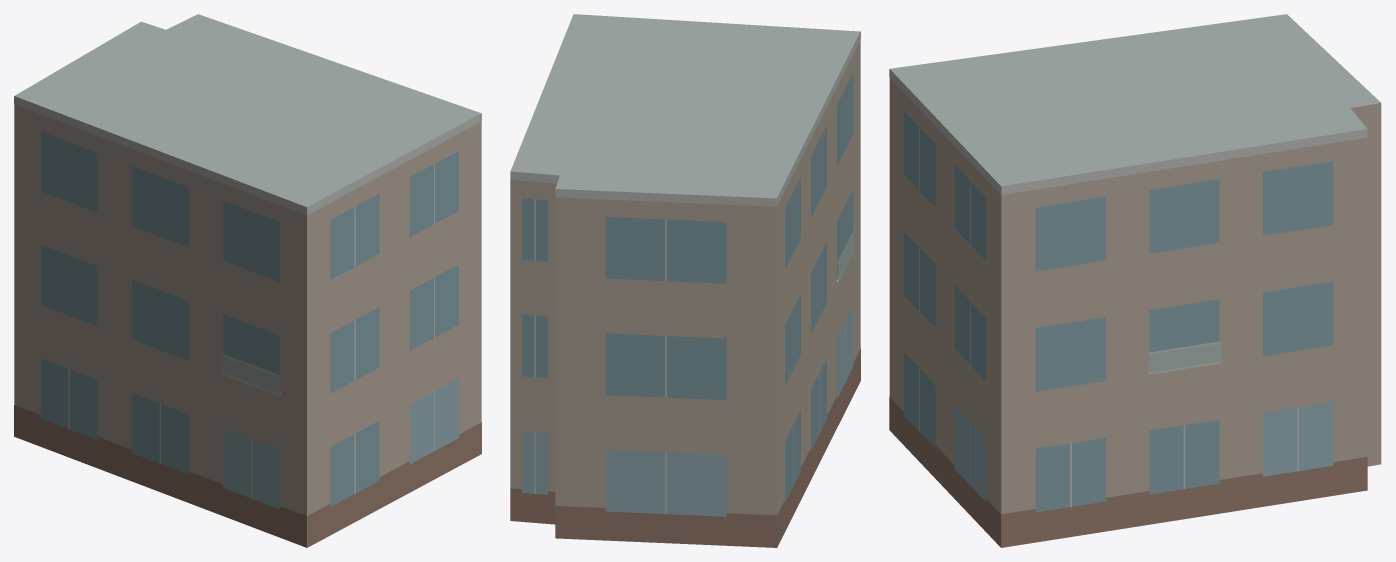
File: survey-upis-32600465.glb
3 views of the same model, side by side, from view 1: azimuth 30°, elevation 25°; view 2: azimuth 150°, elevation 25°; view 3: azimuth 270°, elevation 25° (orthographic). The views are drawn at different scales.
Visible parts, largest first — view 1: survey-upis-32600465.tmp; view 2: survey-upis-32600465.tmp; view 3: survey-upis-32600465.tmp.
Part boxes in pixels (box(x1,y1,x2,y2)): survey-upis-32600465.tmp: box(14, 14, 481, 547); survey-upis-32600465.tmp: box(510, 14, 860, 547); survey-upis-32600465.tmp: box(889, 14, 1381, 547).
Bounding box in the file's own units: 10.44 × 10.2 × 12.59.
